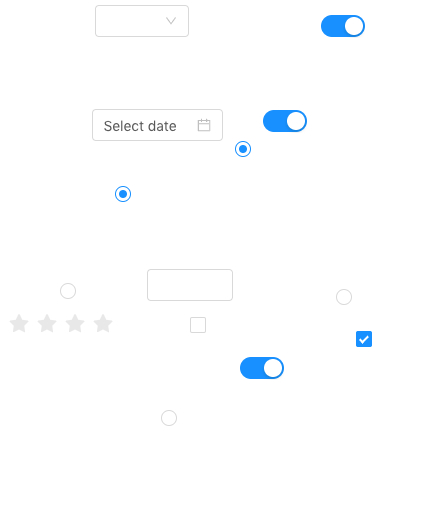Checkbox: (190, 314, 206, 335), (356, 328, 372, 349)
DatePicker: (92, 109, 223, 141)
Input: (147, 269, 233, 301)
Radio: (235, 138, 251, 158), (115, 183, 131, 203), (336, 286, 352, 306), (161, 407, 177, 427), (60, 280, 76, 300)
Rate: (9, 307, 129, 339)
Select: (95, 5, 189, 37)
Switch: (240, 356, 284, 380), (263, 109, 307, 133), (321, 14, 365, 38)
